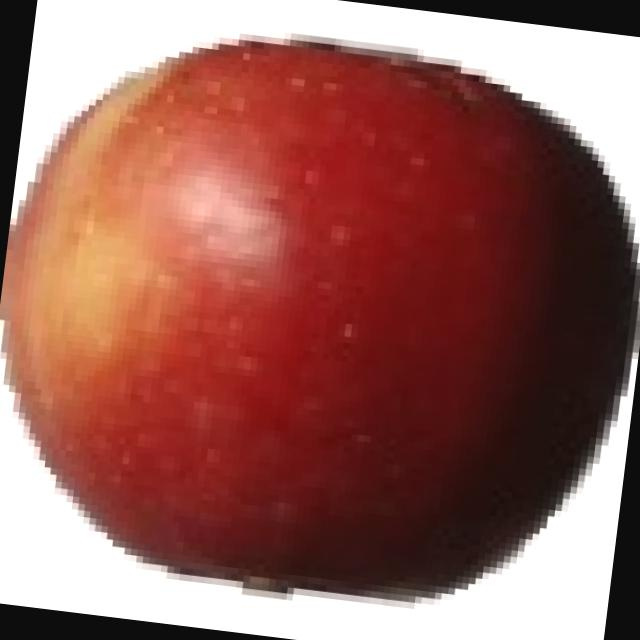apple: (0, 3, 640, 637)
